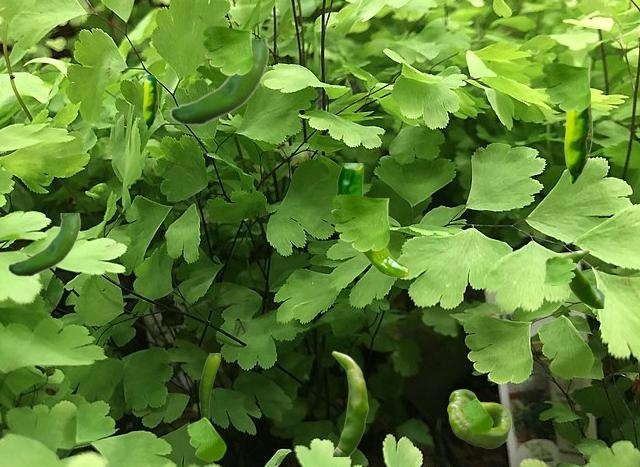green_chili: (169, 39, 267, 125), (336, 163, 409, 277), (7, 213, 79, 276), (331, 350, 368, 455), (447, 389, 510, 447), (562, 249, 603, 307), (564, 99, 591, 183), (199, 353, 219, 419), (143, 75, 157, 129)
